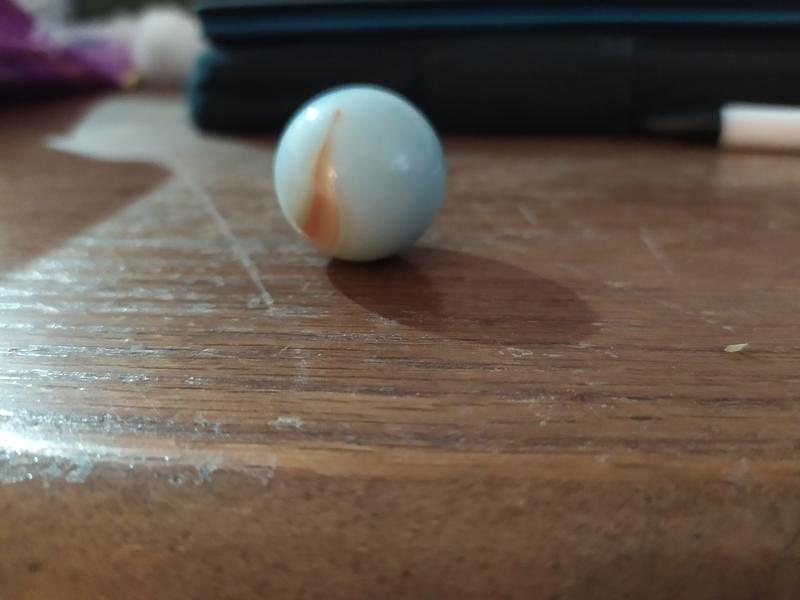Warning: (269, 80, 454, 266)
